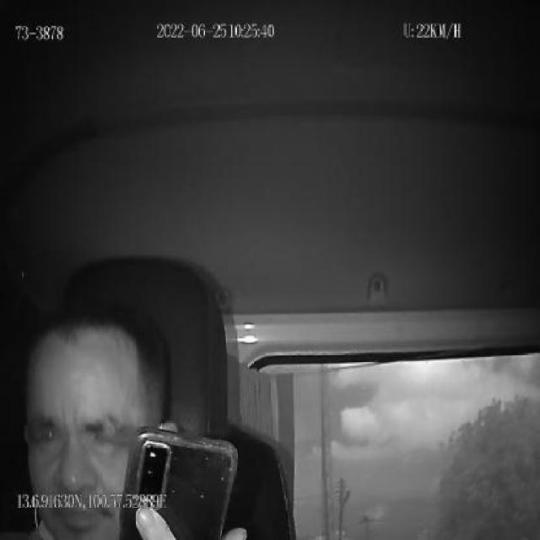phone: (119, 424, 237, 540)
